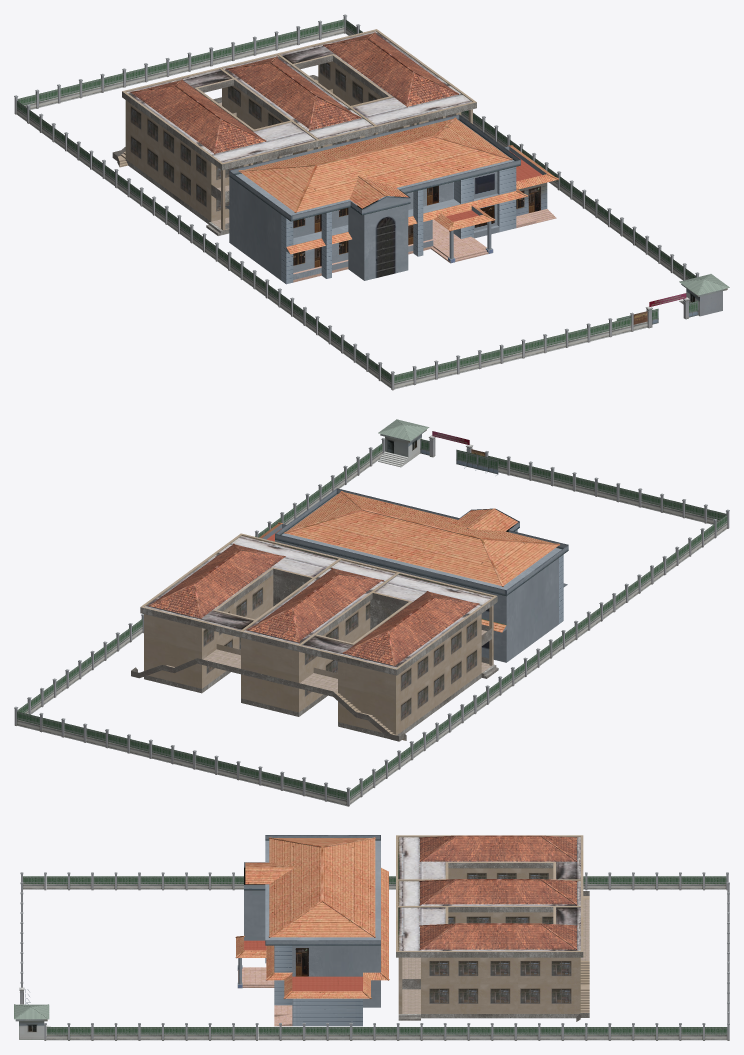
The model's file is Trung tâm dịch vụ việc làm tỉnh Bình Phước.glb.
3 views of the same model, one above another, from view 1: azimuth 30°, elevation 25°; view 2: azimuth 150°, elevation 25°; view 3: azimuth 270°, elevation 25° (orthographic). The views are drawn at different scales.
Visible parts, largest first — view 1: BPH024_Trung_tm_d?ch_v?_vi?c_lm_t?nh_Bnh_Phu?c_nh_chnh, BPH024_Trung_tm_d?ch_v?_vi?c_lm_t?nh_Bnh_Phu?c_nh_ph?, BPH024_Trung_tm_d?ch_v?_vi?c_lm_t?nh_Bnh_Phu?c_c?ng_ro; view 2: BPH024_Trung_tm_d?ch_v?_vi?c_lm_t?nh_Bnh_Phu?c_nh_ph?, BPH024_Trung_tm_d?ch_v?_vi?c_lm_t?nh_Bnh_Phu?c_nh_chnh, BPH024_Trung_tm_d?ch_v?_vi?c_lm_t?nh_Bnh_Phu?c_c?ng_ro; view 3: BPH024_Trung_tm_d?ch_v?_vi?c_lm_t?nh_Bnh_Phu?c_nh_ph?, BPH024_Trung_tm_d?ch_v?_vi?c_lm_t?nh_Bnh_Phu?c_nh_chnh, BPH024_Trung_tm_d?ch_v?_vi?c_lm_t?nh_Bnh_Phu?c_c?ng_ro.
Boxes of the visible parts, left/top/right/bottom form: BPH024_Trung_tm_d?ch_v?_vi?c_lm_t?nh_Bnh_Phu?c_nh_chnh: left=225, top=114, right=558, bottom=284; BPH024_Trung_tm_d?ch_v?_vi?c_lm_t?nh_Bnh_Phu?c_nh_ph?: left=112, top=29, right=476, bottom=235; BPH024_Trung_tm_d?ch_v?_vi?c_lm_t?nh_Bnh_Phu?c_c?ng_ro: left=14, top=14, right=729, bottom=390; BPH024_Trung_tm_d?ch_v?_vi?c_lm_t?nh_Bnh_Phu?c_nh_ph?: left=131, top=533, right=498, bottom=741; BPH024_Trung_tm_d?ch_v?_vi?c_lm_t?nh_Bnh_Phu?c_nh_chnh: left=259, top=488, right=568, bottom=662; BPH024_Trung_tm_d?ch_v?_vi?c_lm_t?nh_Bnh_Phu?c_c?ng_ro: left=14, top=419, right=729, bottom=806; BPH024_Trung_tm_d?ch_v?_vi?c_lm_t?nh_Bnh_Phu?c_nh_ph?: left=396, top=835, right=589, bottom=1021; BPH024_Trung_tm_d?ch_v?_vi?c_lm_t?nh_Bnh_Phu?c_nh_chnh: left=235, top=835, right=389, bottom=1026; BPH024_Trung_tm_d?ch_v?_vi?c_lm_t?nh_Bnh_Phu?c_c?ng_ro: left=14, top=872, right=729, bottom=1040.
Size of the model in its own units: 40.72 by 10.14 by 80.62.
Materials: 3 (3 with a texture image).
